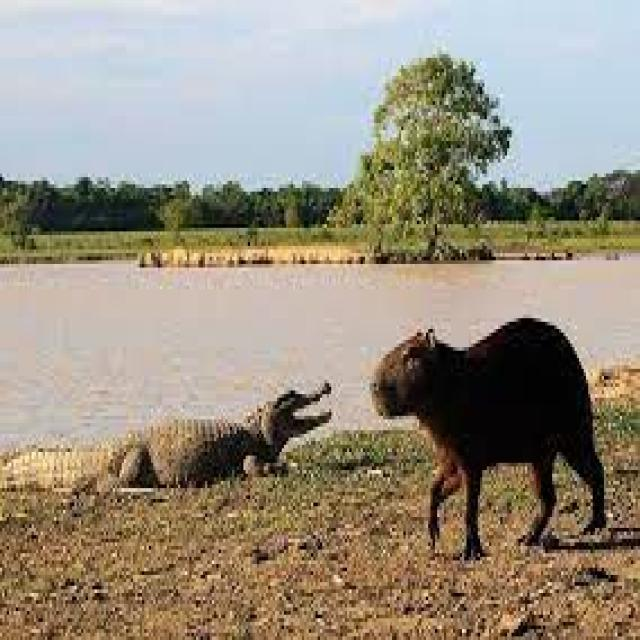capy: (368, 322, 610, 565)
